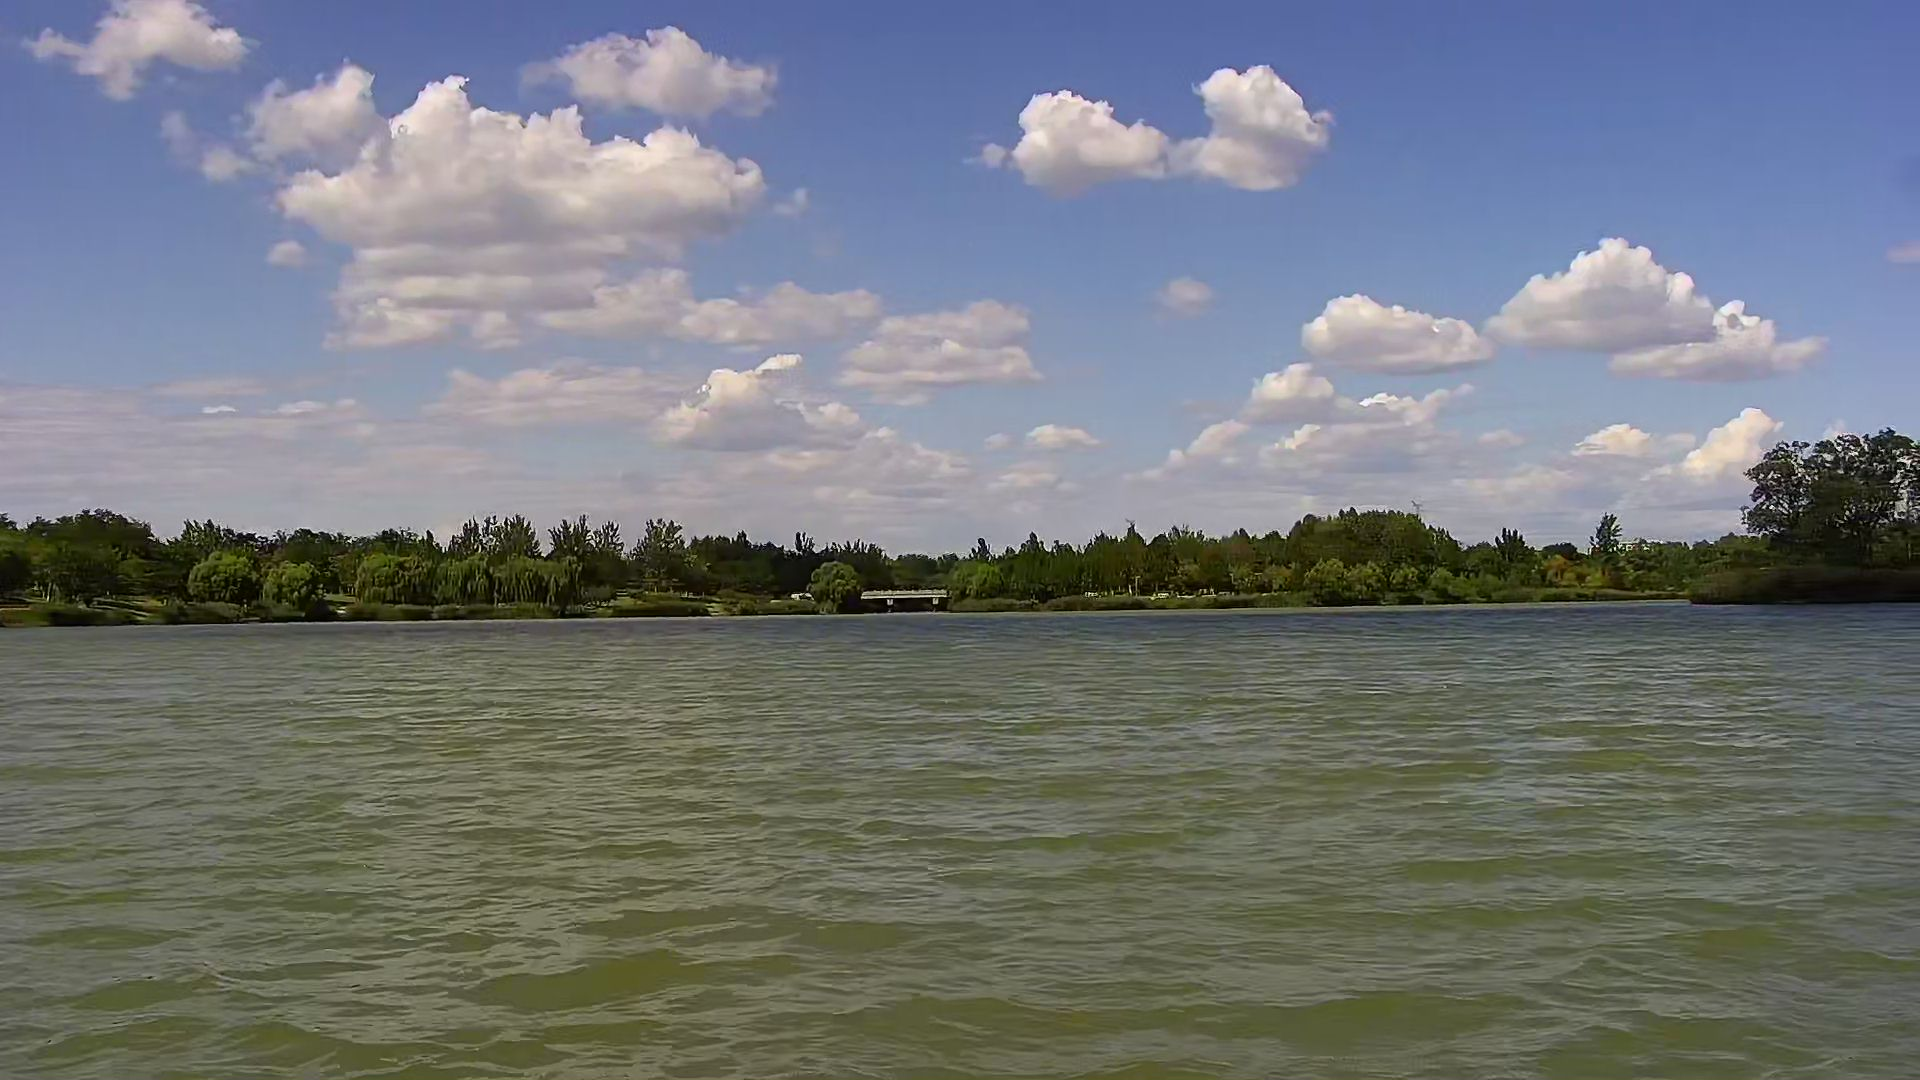bridge: (860, 585, 953, 618)
